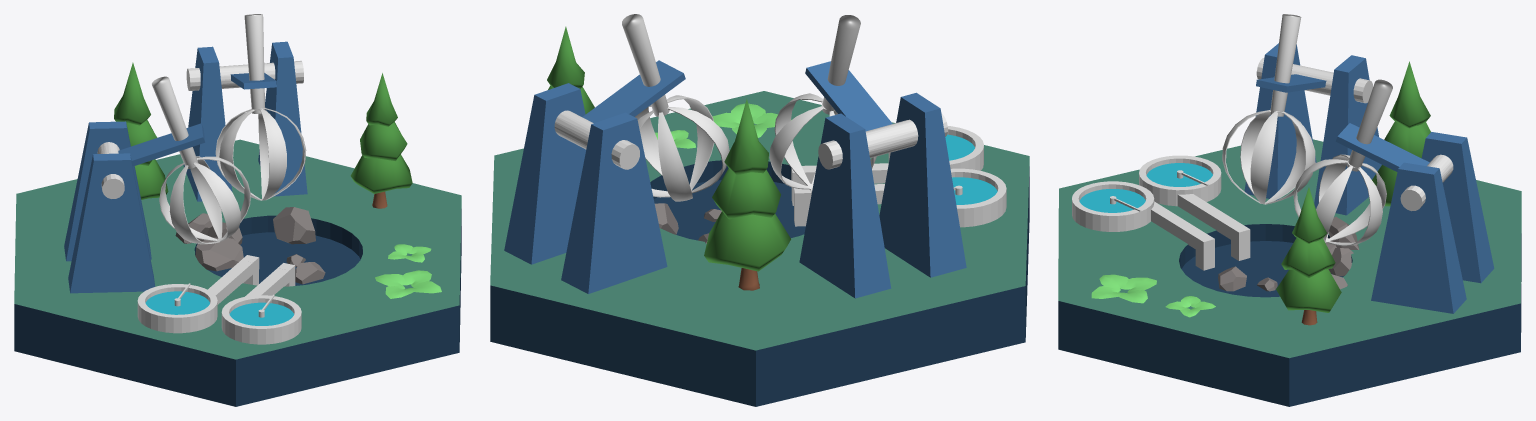
Rendered from Macro - Mineral lvl 2 WM3 rev.fbx.
The picture shows the model from 3 angles, left to right: view 1: azimuth 30°, elevation 25°; view 2: azimuth 150°, elevation 25°; view 3: azimuth 270°, elevation 25°; orthographic projection. The views are drawn at different scales.
Parts seen in each view (by area): view 1: Cylinder.011, Cube.008, Tree_Spruce_tiny_01.001, Circle.003, Circle.002, Cube.004, Cube.005, Tree_Spruce_tiny_01.002, Cube.009, Cylinder.151, Cylinder.143, Rock Type2 02 mesh.002 (+14 smaller); view 2: Cylinder.011, Cube.005, Cube.009, Cube.008, Cube.004, Tree_Spruce_tiny_01.002, Circle.002, Cube.007, Circle.003, Cube.006, Cylinder.007, Cylinder.005 (+10 smaller); view 3: Cylinder.011, Cube.004, Cube.005, Tree_Spruce_tiny_01.001, Circle.003, Cube.009, Circle.002, Cube.008, Tree_Spruce_tiny_01.002, Cylinder.143, Cylinder.151, Cube.006 (+15 smaller).
Boxes of the visible parts, box(x1,y1,x2,y2) form: Cylinder.011: box(14, 139, 461, 406); Cube.008: box(68, 153, 155, 293); Tree_Spruce_tiny_01.001: box(350, 73, 412, 208); Circle.003: box(159, 156, 250, 244); Circle.002: box(215, 108, 306, 200); Cube.004: box(258, 41, 307, 196); Cube.005: box(183, 46, 232, 201); Tree_Spruce_tiny_01.002: box(114, 62, 168, 199); Cube.009: box(64, 121, 151, 261); Cylinder.151: box(137, 284, 217, 333); Cylinder.143: box(221, 295, 301, 344); Rock Type2 02 mesh.002: box(175, 213, 243, 271); Cylinder.011: box(490, 91, 1029, 406); Cube.005: box(561, 112, 667, 293); Cube.009: box(799, 113, 891, 298); Cube.008: box(879, 92, 966, 277); Cube.004: box(504, 83, 585, 264); Tree_Spruce_tiny_01.002: box(704, 98, 790, 290); Circle.002: box(635, 95, 729, 201); Cube.007: box(805, 61, 892, 131); Circle.003: box(769, 93, 876, 193); Cube.006: box(582, 60, 685, 123); Cylinder.007: box(818, 113, 947, 169); Cylinder.005: box(622, 14, 669, 116); Cylinder.011: box(1058, 139, 1521, 406); Cube.004: box(1371, 162, 1466, 313); Cube.005: box(1421, 132, 1494, 283); Tree_Spruce_tiny_01.001: box(1276, 187, 1341, 325); Circle.003: box(1222, 109, 1315, 204); Cube.009: box(1314, 55, 1381, 215); Circle.002: box(1293, 154, 1386, 246); Cube.008: box(1244, 43, 1316, 200); Tree_Spruce_tiny_01.002: box(1372, 61, 1430, 206); Cylinder.143: box(1072, 181, 1154, 231); Cylinder.151: box(1139, 155, 1221, 206); Cube.006: box(1335, 123, 1429, 171).
Bounding box in the file's own units: 197 × 99.74 × 172.
